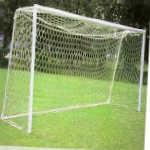goals: (1, 1, 146, 132)
